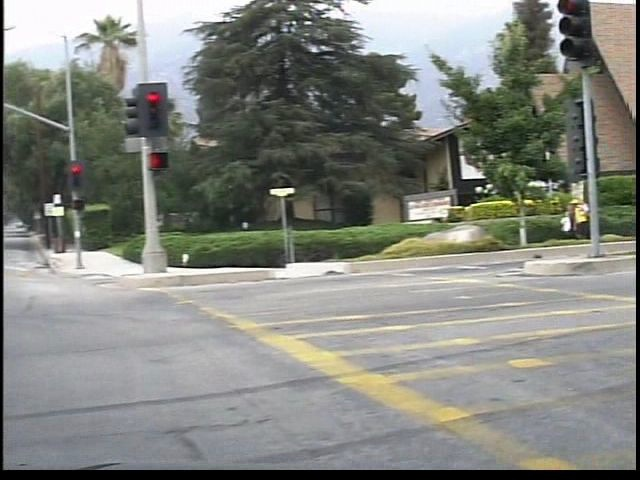person: (578, 189, 601, 244)
